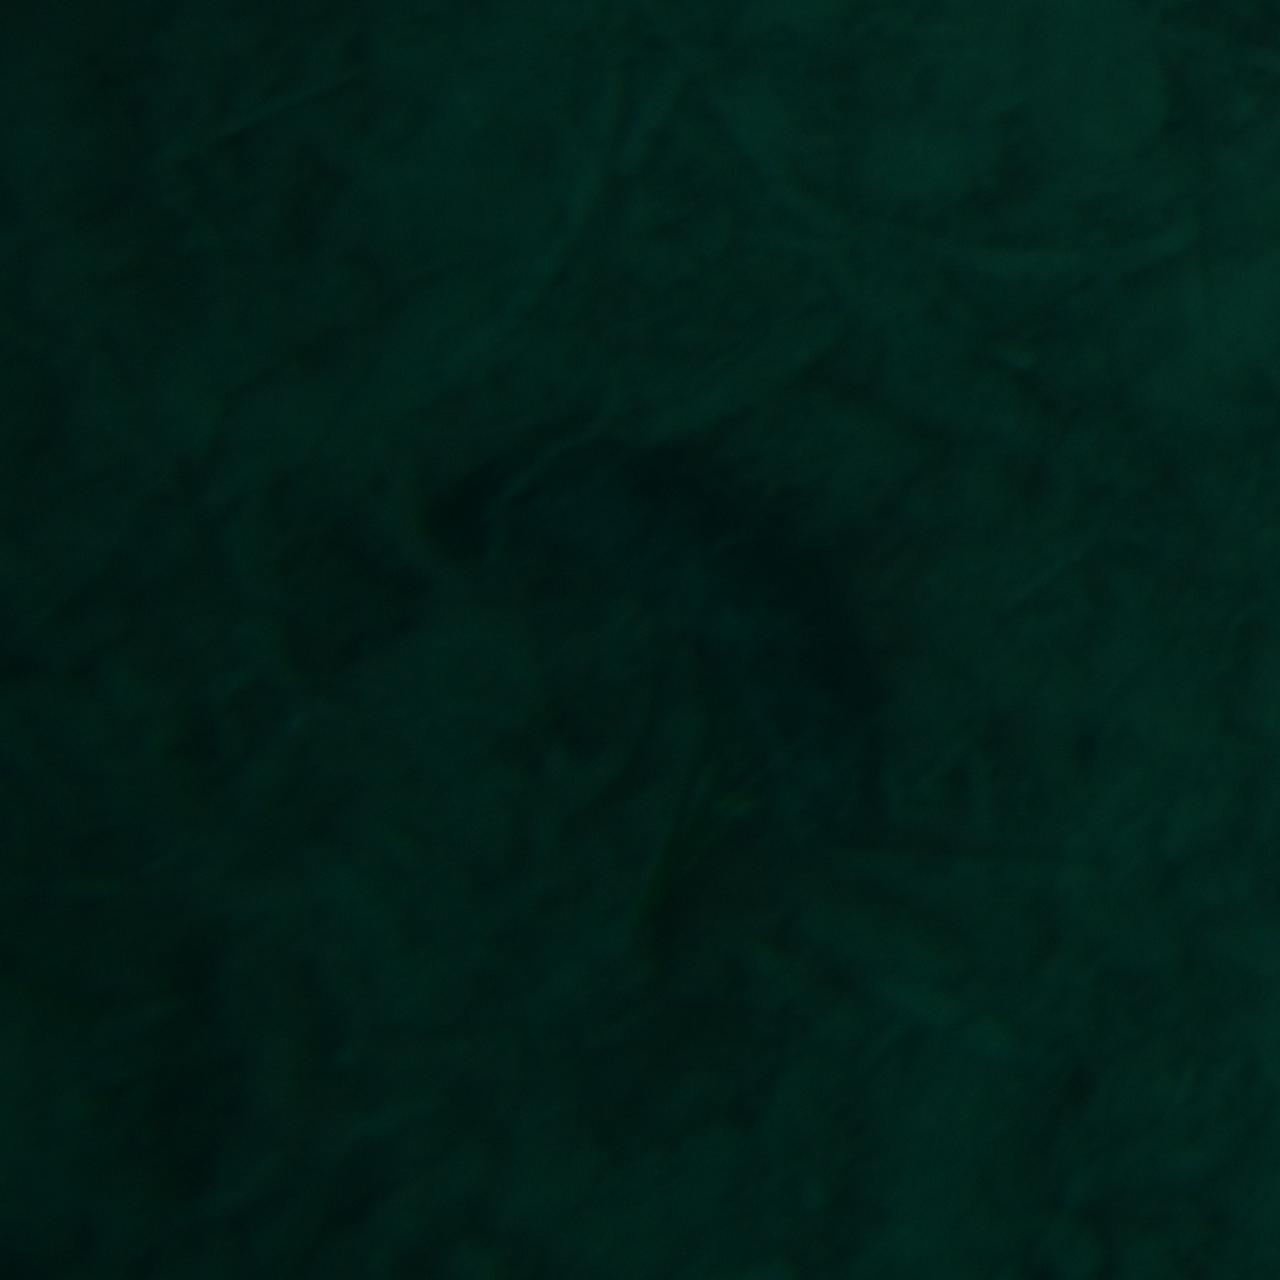Holothuria tubulosa: (394, 395, 886, 885)
